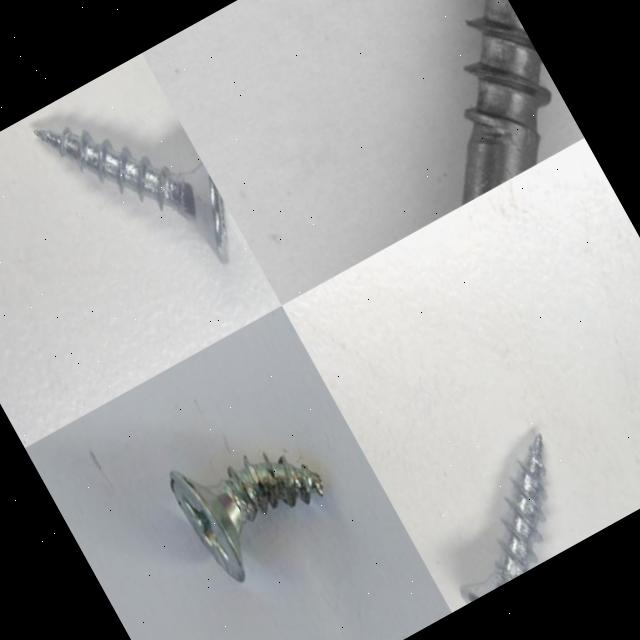Screw: (166, 0, 585, 292), (410, 430, 598, 605), (36, 129, 230, 265), (171, 454, 324, 583)
